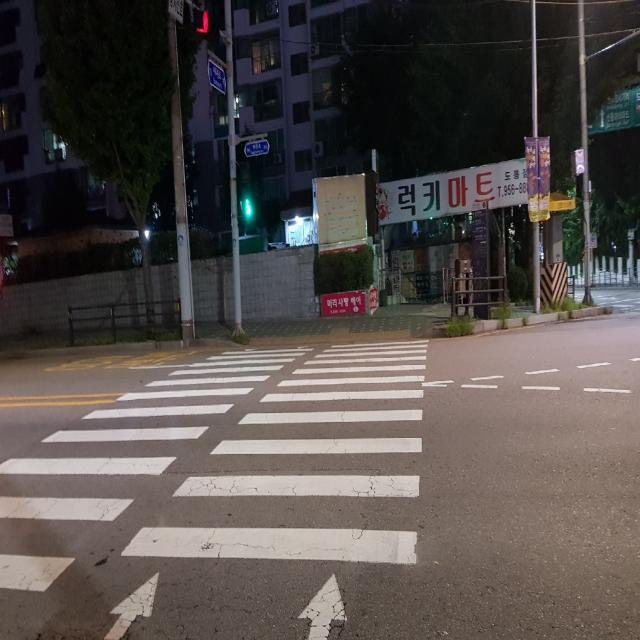초록불: (240, 166, 254, 222)
횡단보도: (0, 340, 430, 640)
